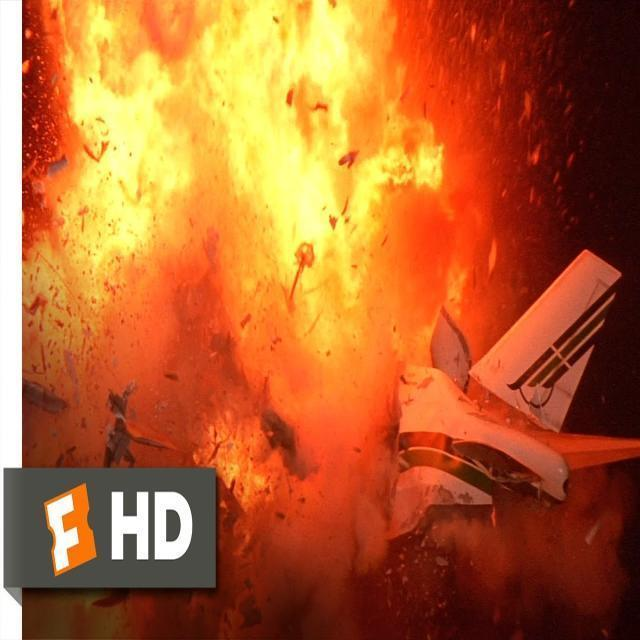fire: (24, 0, 454, 455)
